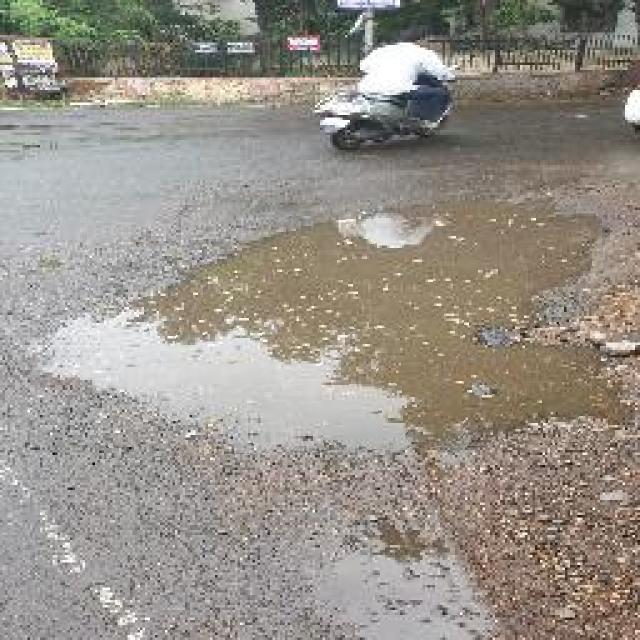puddle: (90, 202, 609, 456)
